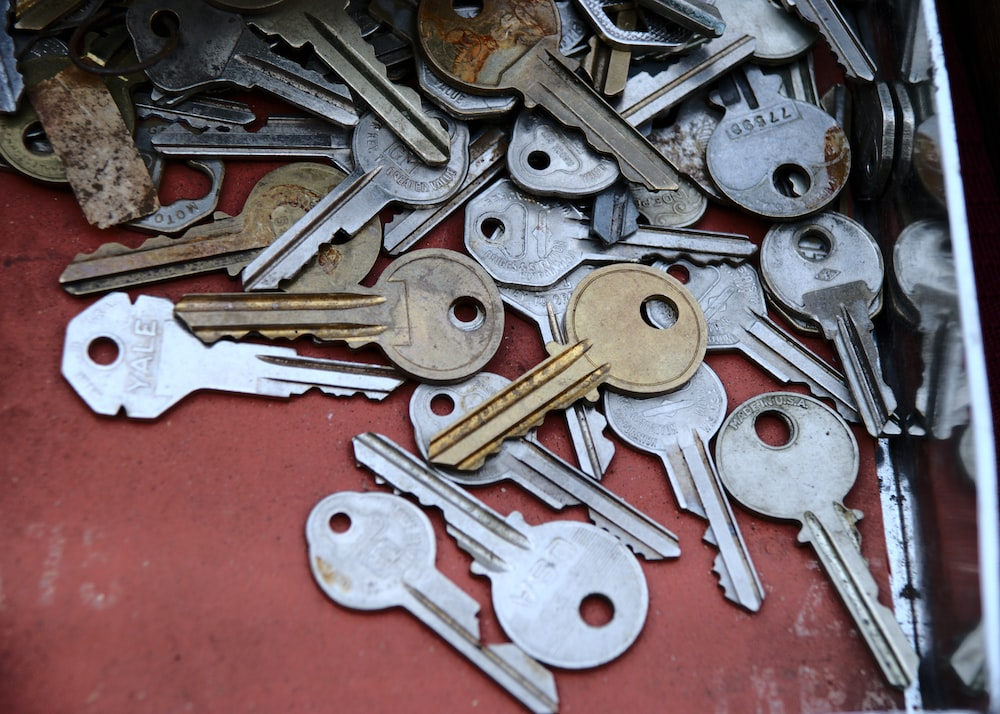key: (30, 7, 914, 696)
